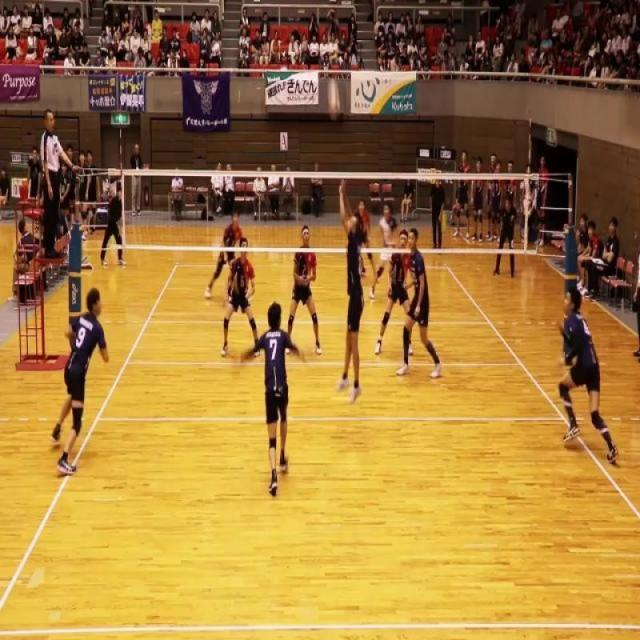volleyball: (328, 76, 340, 125)
